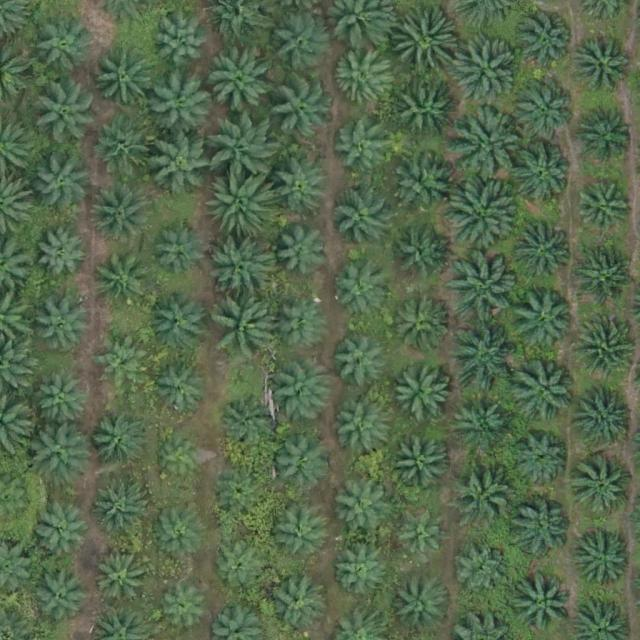Healthy: (454, 107, 525, 178), (389, 10, 459, 81), (451, 252, 521, 323), (446, 180, 517, 250), (449, 36, 519, 107), (206, 171, 276, 242), (207, 113, 278, 183), (32, 78, 102, 149), (447, 322, 517, 392), (384, 150, 454, 220), (219, 392, 282, 455), (330, 475, 393, 538), (450, 392, 513, 455), (452, 461, 515, 524), (514, 362, 577, 425), (572, 456, 635, 519), (574, 246, 637, 309), (397, 83, 460, 146), (269, 156, 332, 219), (94, 48, 157, 111), (30, 14, 92, 77), (265, 11, 328, 73), (32, 423, 94, 486), (150, 359, 213, 421), (215, 299, 277, 362), (265, 577, 327, 640), (390, 434, 452, 497), (391, 359, 453, 422), (389, 291, 451, 354), (511, 288, 573, 351), (515, 572, 577, 635), (577, 385, 640, 447), (573, 316, 635, 379), (577, 102, 639, 165), (572, 34, 634, 97), (511, 141, 573, 204), (510, 220, 572, 283), (330, 188, 392, 251), (334, 118, 396, 181), (271, 80, 333, 143), (209, 239, 272, 301), (208, 48, 270, 111), (150, 75, 212, 138), (94, 116, 157, 178), (513, 13, 575, 75), (146, 294, 208, 356), (271, 363, 333, 425), (509, 498, 571, 560), (573, 528, 635, 590), (515, 80, 577, 142), (153, 137, 215, 199), (90, 184, 152, 246), (94, 416, 149, 472), (35, 300, 90, 355), (38, 376, 93, 431), (33, 508, 88, 563), (35, 571, 90, 626), (96, 256, 151, 311), (96, 335, 151, 390), (94, 483, 149, 538), (95, 554, 150, 609), (159, 580, 214, 635), (216, 469, 271, 524), (213, 543, 268, 598), (273, 299, 328, 354), (273, 437, 328, 492), (271, 507, 326, 562), (334, 335, 389, 390), (334, 402, 389, 457), (332, 548, 387, 603), (396, 575, 451, 630), (455, 544, 510, 599), (514, 432, 569, 487), (576, 184, 631, 239), (393, 226, 448, 281), (329, 266, 384, 321), (335, 53, 390, 108), (273, 223, 328, 278), (150, 226, 205, 281), (155, 20, 209, 75), (152, 503, 206, 558), (392, 508, 446, 563), (36, 158, 90, 213), (37, 225, 91, 280)
Small: (158, 437, 205, 484)
